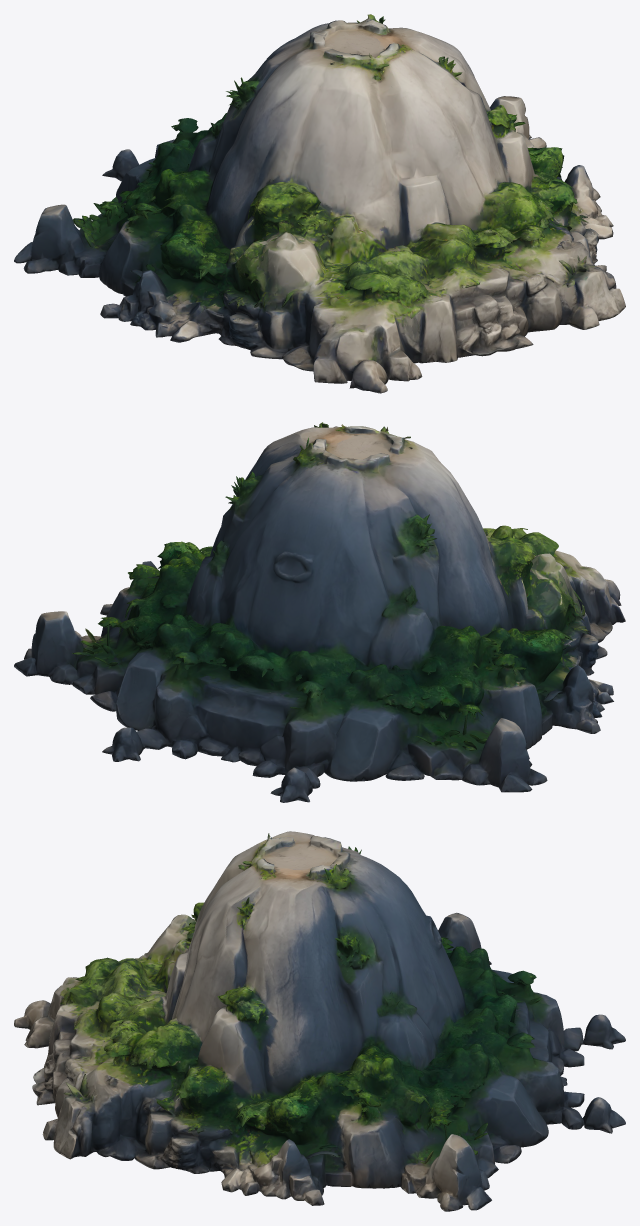
Rendered from morro_pedra.glb.
3 renders of one model, top to bottom at view 1: azimuth 30°, elevation 25°; view 2: azimuth 150°, elevation 25°; view 3: azimuth 270°, elevation 25°, orthographic.
Visible parts, largest first — view 1: tripo_node_38595fc2-89fa-4cad-95ba-58f55988ec94; view 2: tripo_node_38595fc2-89fa-4cad-95ba-58f55988ec94; view 3: tripo_node_38595fc2-89fa-4cad-95ba-58f55988ec94.
Boxes of the visible parts, x1,y1,x2,y2 form: tripo_node_38595fc2-89fa-4cad-95ba-58f55988ec94: (14,14,625,393); tripo_node_38595fc2-89fa-4cad-95ba-58f55988ec94: (14,422,625,802); tripo_node_38595fc2-89fa-4cad-95ba-58f55988ec94: (14,831,625,1211).
Size of the model in its own units: 1 by 0.4249 by 0.9997.
1 material, 1 textured.
